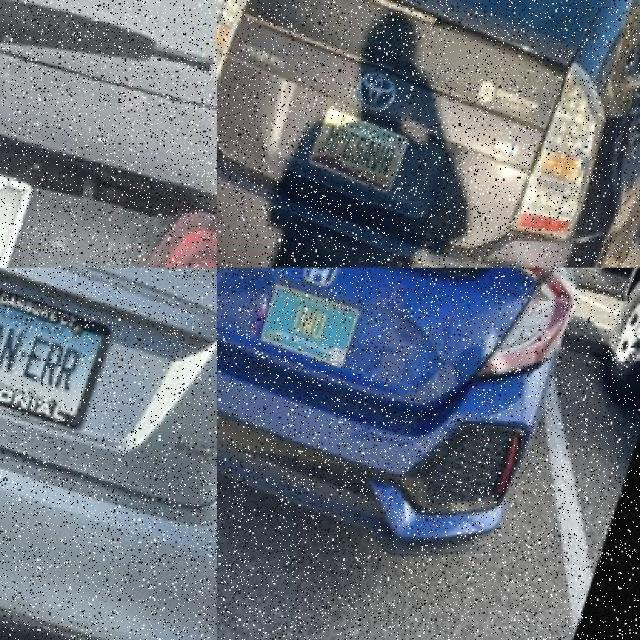LicensePlate: (0, 283, 119, 422), (313, 101, 415, 190), (265, 278, 365, 362)
